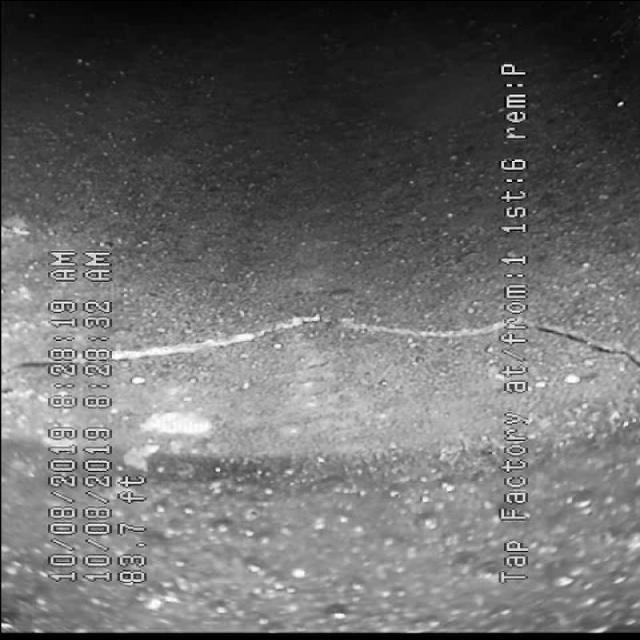Crack: (138, 280, 440, 376)
